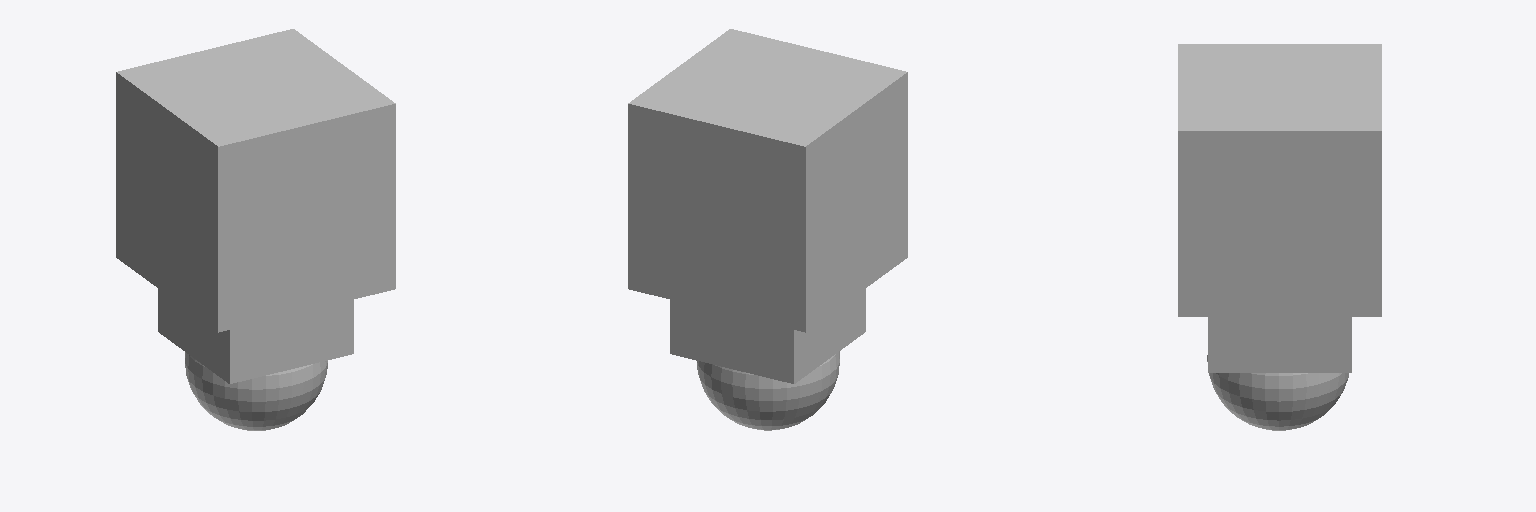
Rendered from cubes.obj.
The picture shows the model from 3 angles: view 1: azimuth 30°, elevation 25°; view 2: azimuth 150°, elevation 25°; view 3: azimuth 270°, elevation 25°; orthographic projection.
Parts seen in each view (by area): view 1: WanderBigCube, WanderSmallCube, WanderSphare; view 2: WanderBigCube, WanderSmallCube, WanderSphare; view 3: WanderBigCube, WanderSmallCube, WanderSphare.
Boxes of the visible parts, x1=… form: WanderBigCube: x1=116, y1=29, x2=395, y2=332; WanderSmallCube: x1=158, y1=289, x2=353, y2=383; WanderSphare: x1=185, y1=352, x2=327, y2=430; WanderBigCube: x1=628, y1=29, x2=907, y2=332; WanderSmallCube: x1=670, y1=289, x2=865, y2=383; WanderSphare: x1=697, y1=351, x2=839, y2=430; WanderBigCube: x1=1178, y1=44, x2=1381, y2=316; WanderSmallCube: x1=1208, y1=317, x2=1351, y2=372; WanderSphare: x1=1207, y1=355, x2=1348, y2=430.
Size of the model in its own units: 2.84 by 5.15 by 2.84.